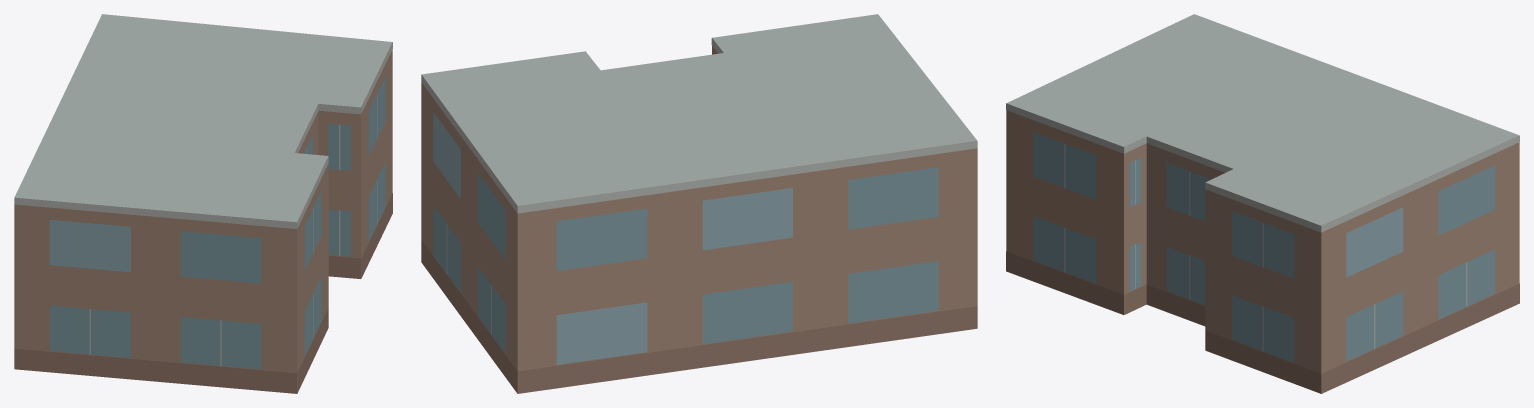
Rendered from survey-upis-32722077.glb.
The picture shows the model from 3 angles, left to right: view 1: azimuth 30°, elevation 25°; view 2: azimuth 150°, elevation 25°; view 3: azimuth 270°, elevation 25°; orthographic projection. The views are drawn at different scales.
Parts seen in each view (by area): view 1: survey-upis-32722077.tmp; view 2: survey-upis-32722077.tmp; view 3: survey-upis-32722077.tmp.
Part boxes in pixels (box(x1,y1,x2,y2)): survey-upis-32722077.tmp: box(14, 14, 392, 393); survey-upis-32722077.tmp: box(421, 14, 977, 393); survey-upis-32722077.tmp: box(1006, 14, 1519, 393).
Size of the model in its own units: 16.5 by 6.1 by 16.9.
